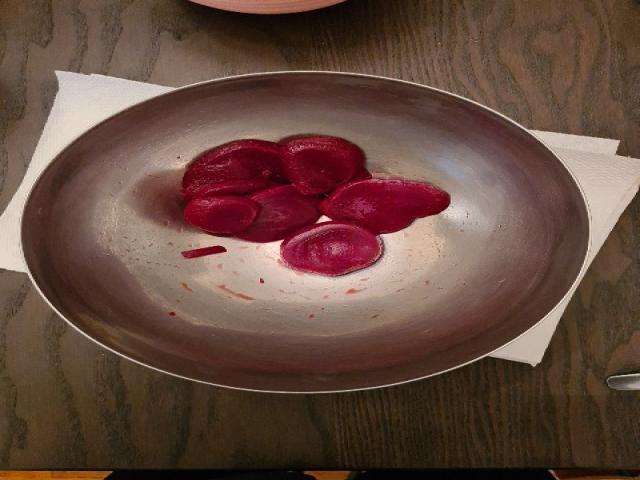kichen waste: (180, 135, 451, 276)
